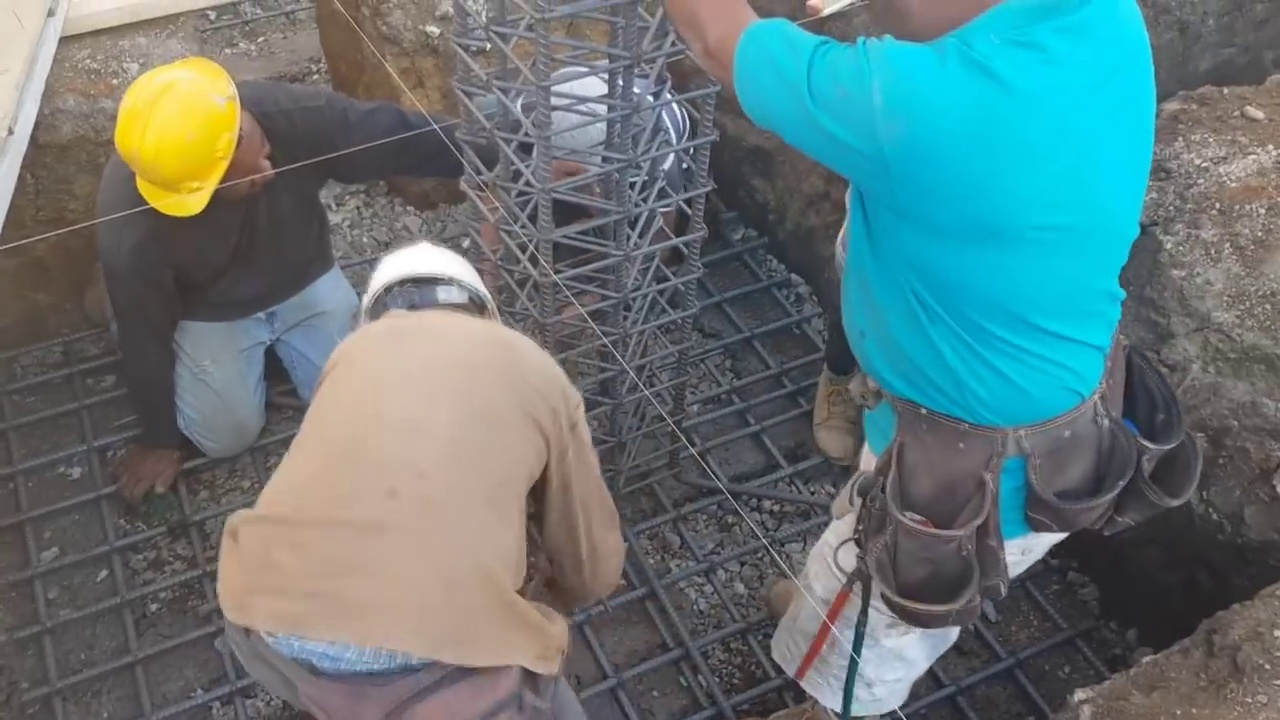helmet: (108, 57, 243, 219), (352, 244, 497, 324)
helmet-off: (517, 63, 624, 168)
helmet-on: (104, 55, 278, 224), (346, 240, 508, 333)
person: (698, 0, 1190, 715), (214, 240, 633, 716), (89, 41, 513, 507), (510, 48, 700, 341)
